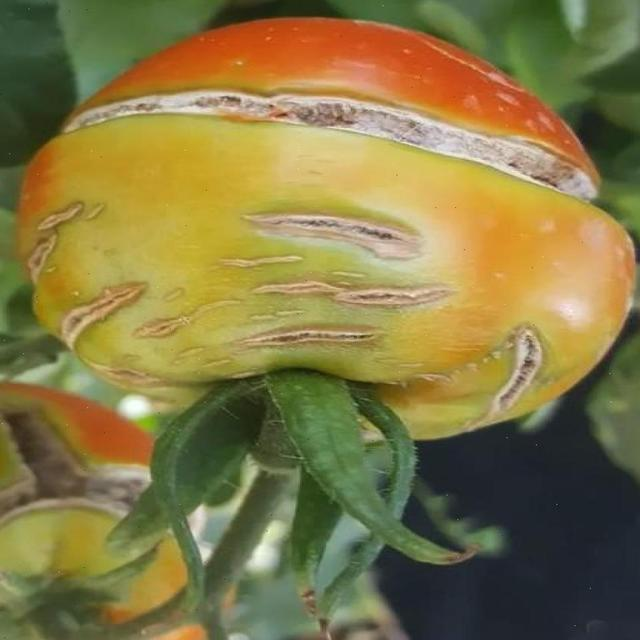Cracking Fruit: (64, 31, 402, 317)
